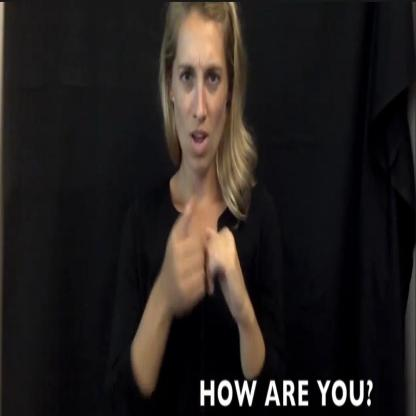HowAreYou: (140, 196, 256, 338)
